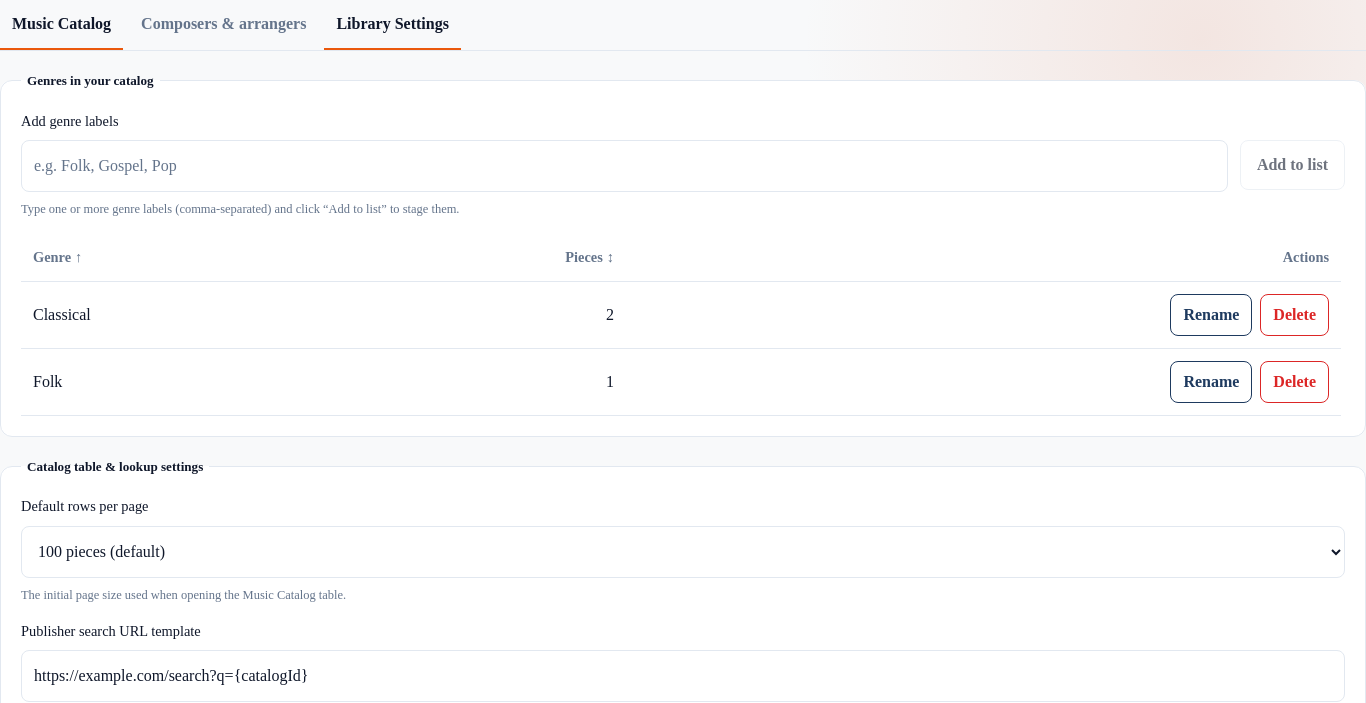
Test case: MusicLibrarySettingsPage genre management with DataTable & batch add › saves pending genres using batchAddOrganizationMusicGenres
In the field labelled "Add genre labels": (624,166) left=21, top=140, right=1228, bottom=192, type "Gospel, Jazz"
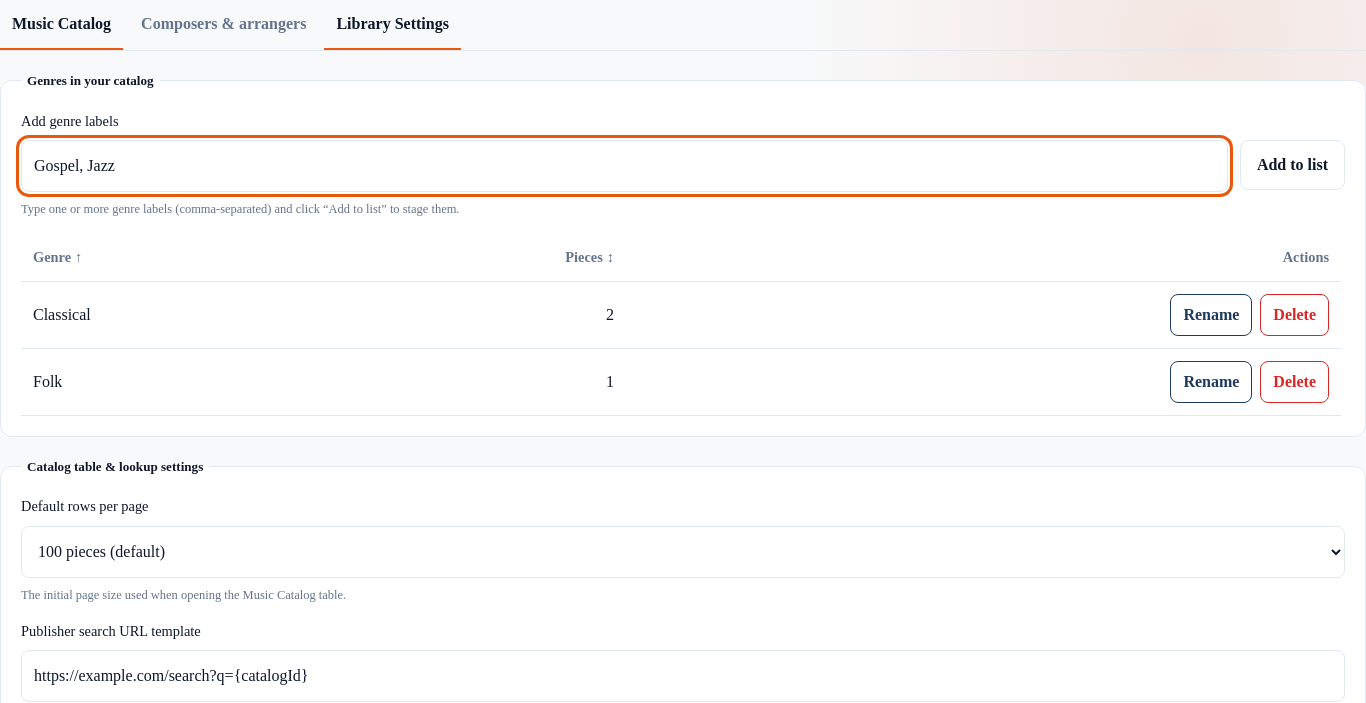
Click the button "Add to list": (1292,165) left=1240, top=140, right=1345, bottom=190
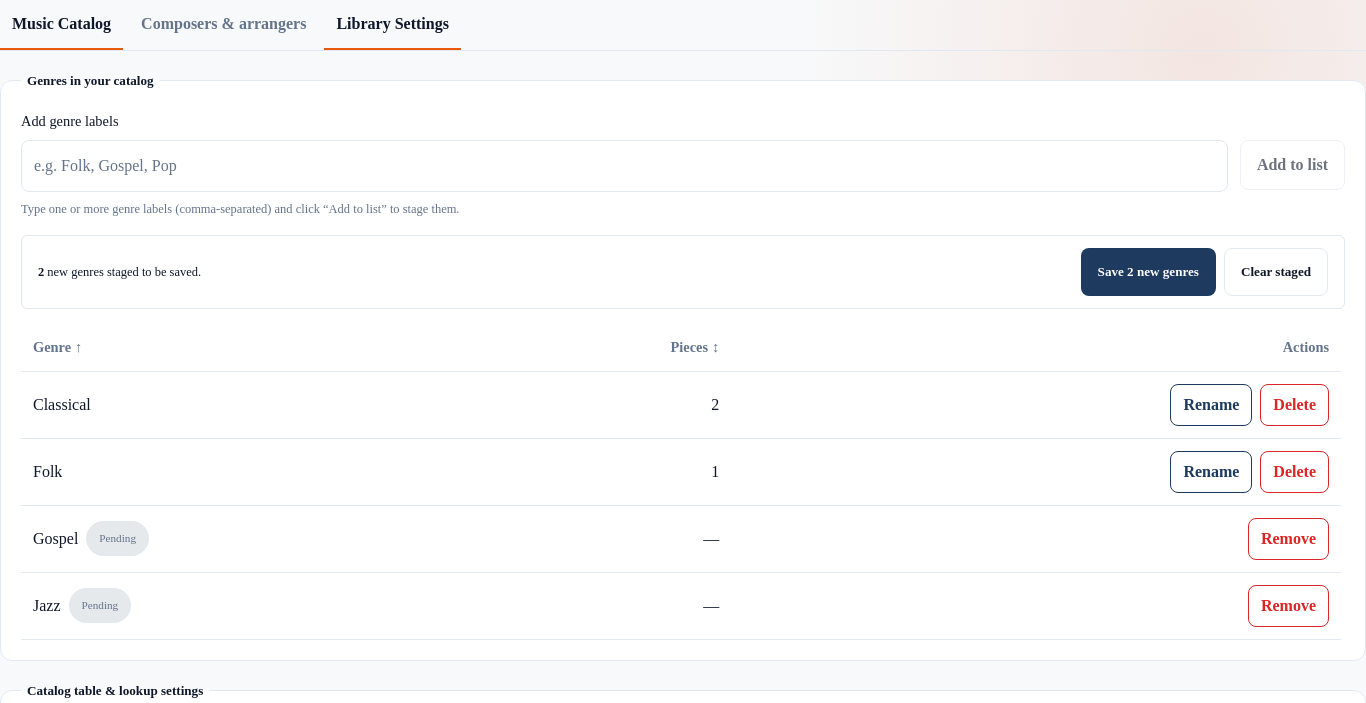
Click the button "Save 2 new genres": (1148,272) left=1081, top=248, right=1216, bottom=296
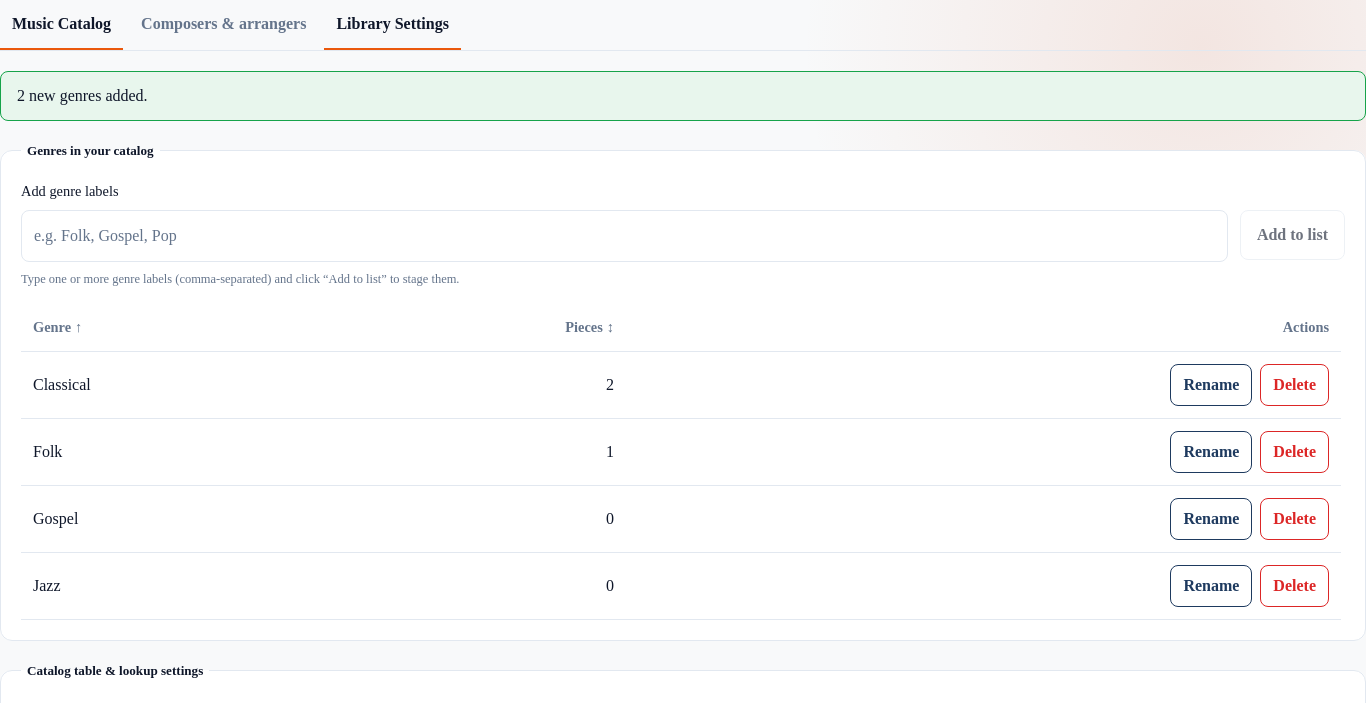
Expected: the text "2 new genres added." is shown, left=0, top=71, right=1365, bottom=121
Expected: the button "Clear staged" is gone
